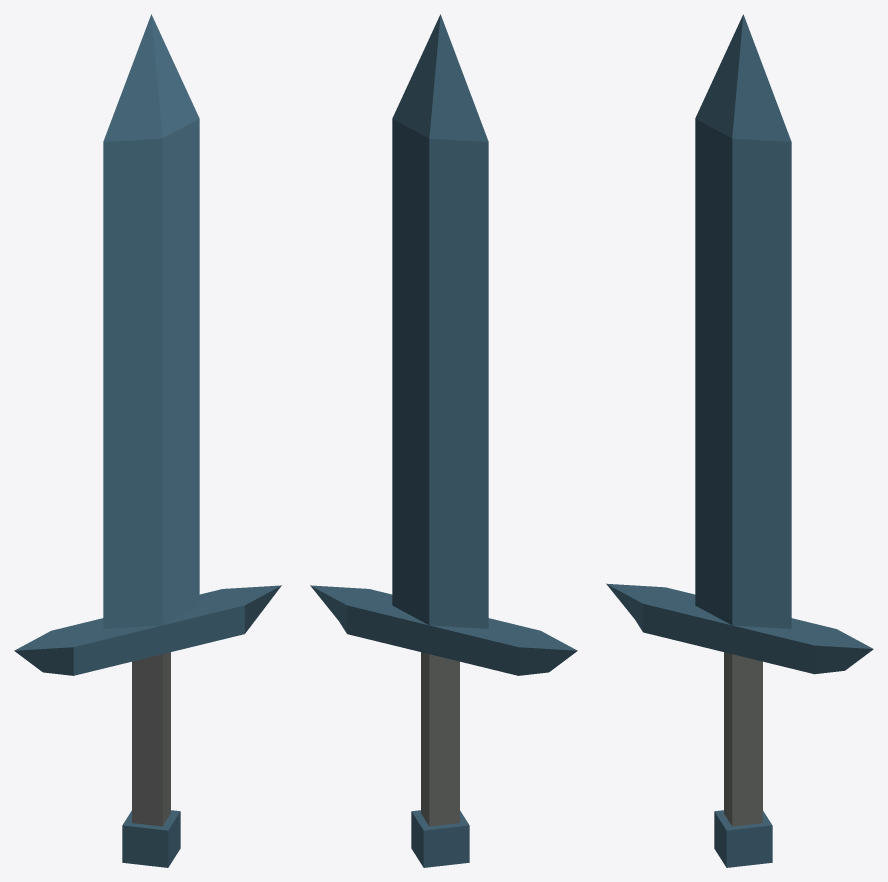
Rendered from sword01.fbx.
The picture shows the model from 3 angles, left to right: view 1: azimuth 30°, elevation 25°; view 2: azimuth 150°, elevation 25°; view 3: azimuth 330°, elevation 25°; orthographic projection.
Parts seen in each view (by area): view 1: sword; view 2: sword; view 3: sword.
Part boxes in pixels (x1,y1,x2,y2): sword: [14, 14, 281, 867]; sword: [310, 14, 577, 867]; sword: [606, 14, 873, 867].
Size of the model in its own units: 19.51 by 58.6 by 4.24.
